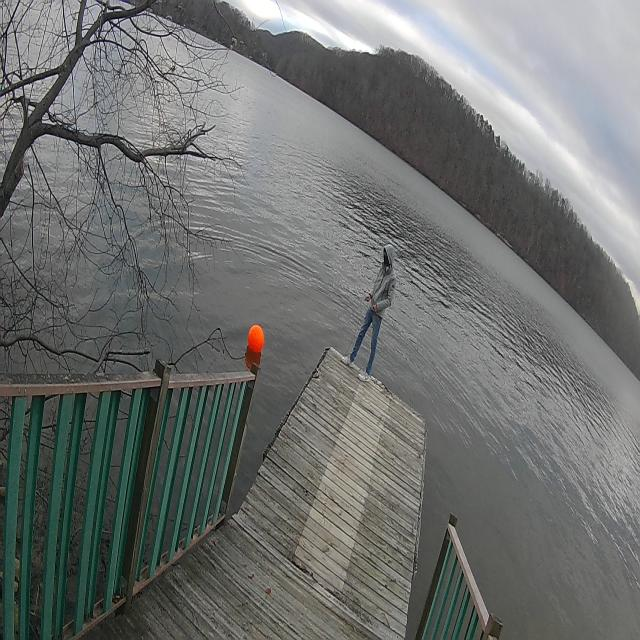Buoy: (244, 318, 267, 362)
